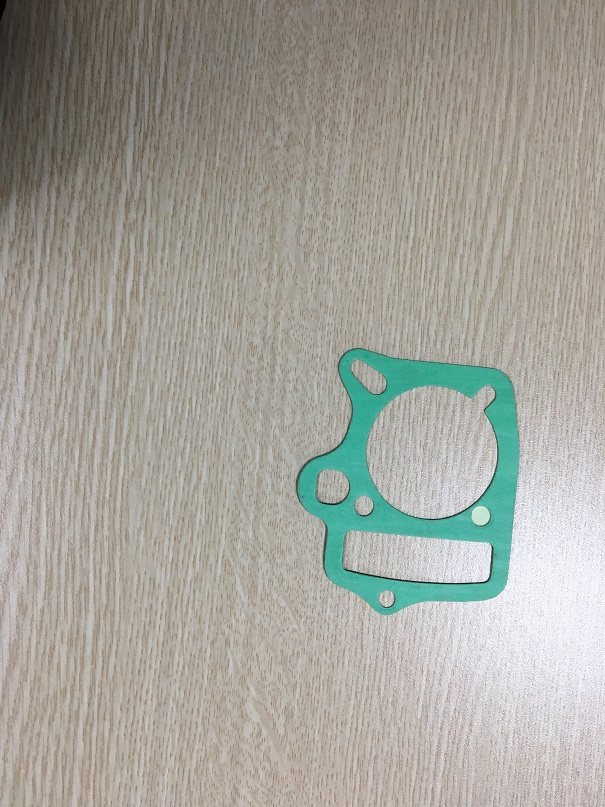type4: (287, 338, 525, 624)
